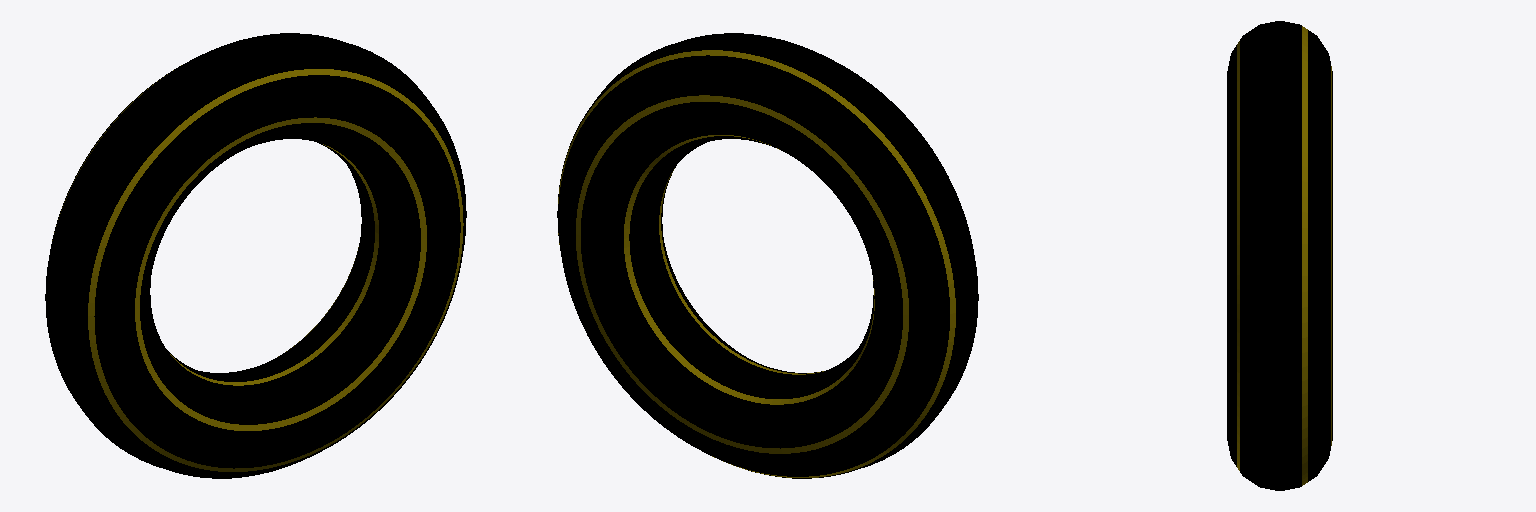
3 views of the same model, side by side, from view 1: azimuth 30°, elevation 25°; view 2: azimuth 150°, elevation 25°; view 3: azimuth 270°, elevation 25° (orthographic).
Parts seen in each view (by area): view 1: Torus; view 2: Torus; view 3: Torus.
Part boxes in pixels (x1,y1,x2,y2): Torus: (45, 33, 466, 478); Torus: (557, 33, 978, 478); Torus: (1227, 21, 1332, 490).
Bounding box in the file's own units: 258 × 258 × 58.
Materials: 1 (1 with a texture image).